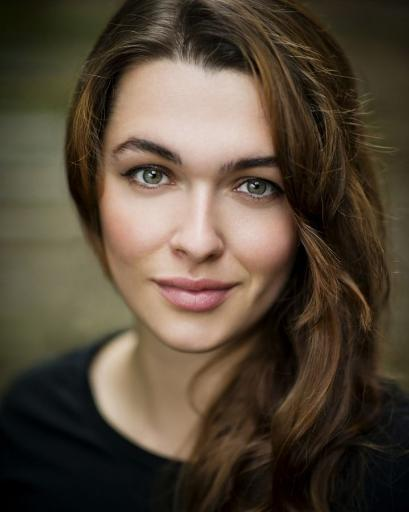left_eye: (230, 177, 285, 205)
left_lip_corner: (234, 279, 249, 298)
right_eye: (123, 164, 179, 193)
right_lip_corner: (146, 274, 163, 294)
